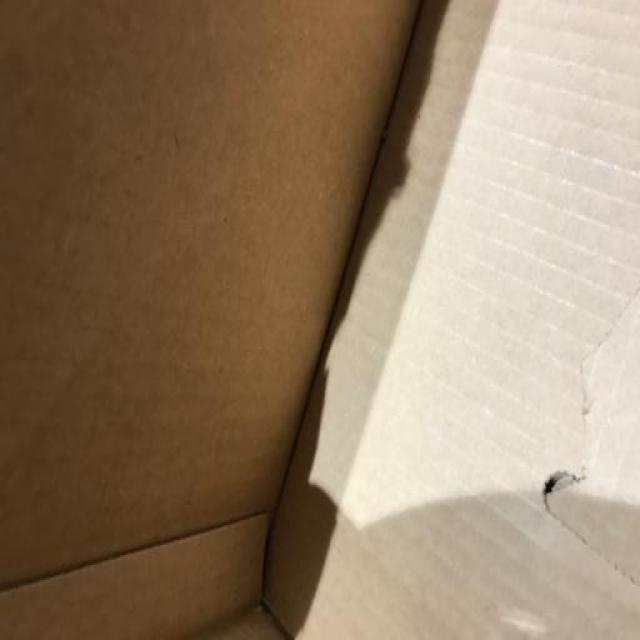Cardboard Paper: (0, 1, 640, 640)
